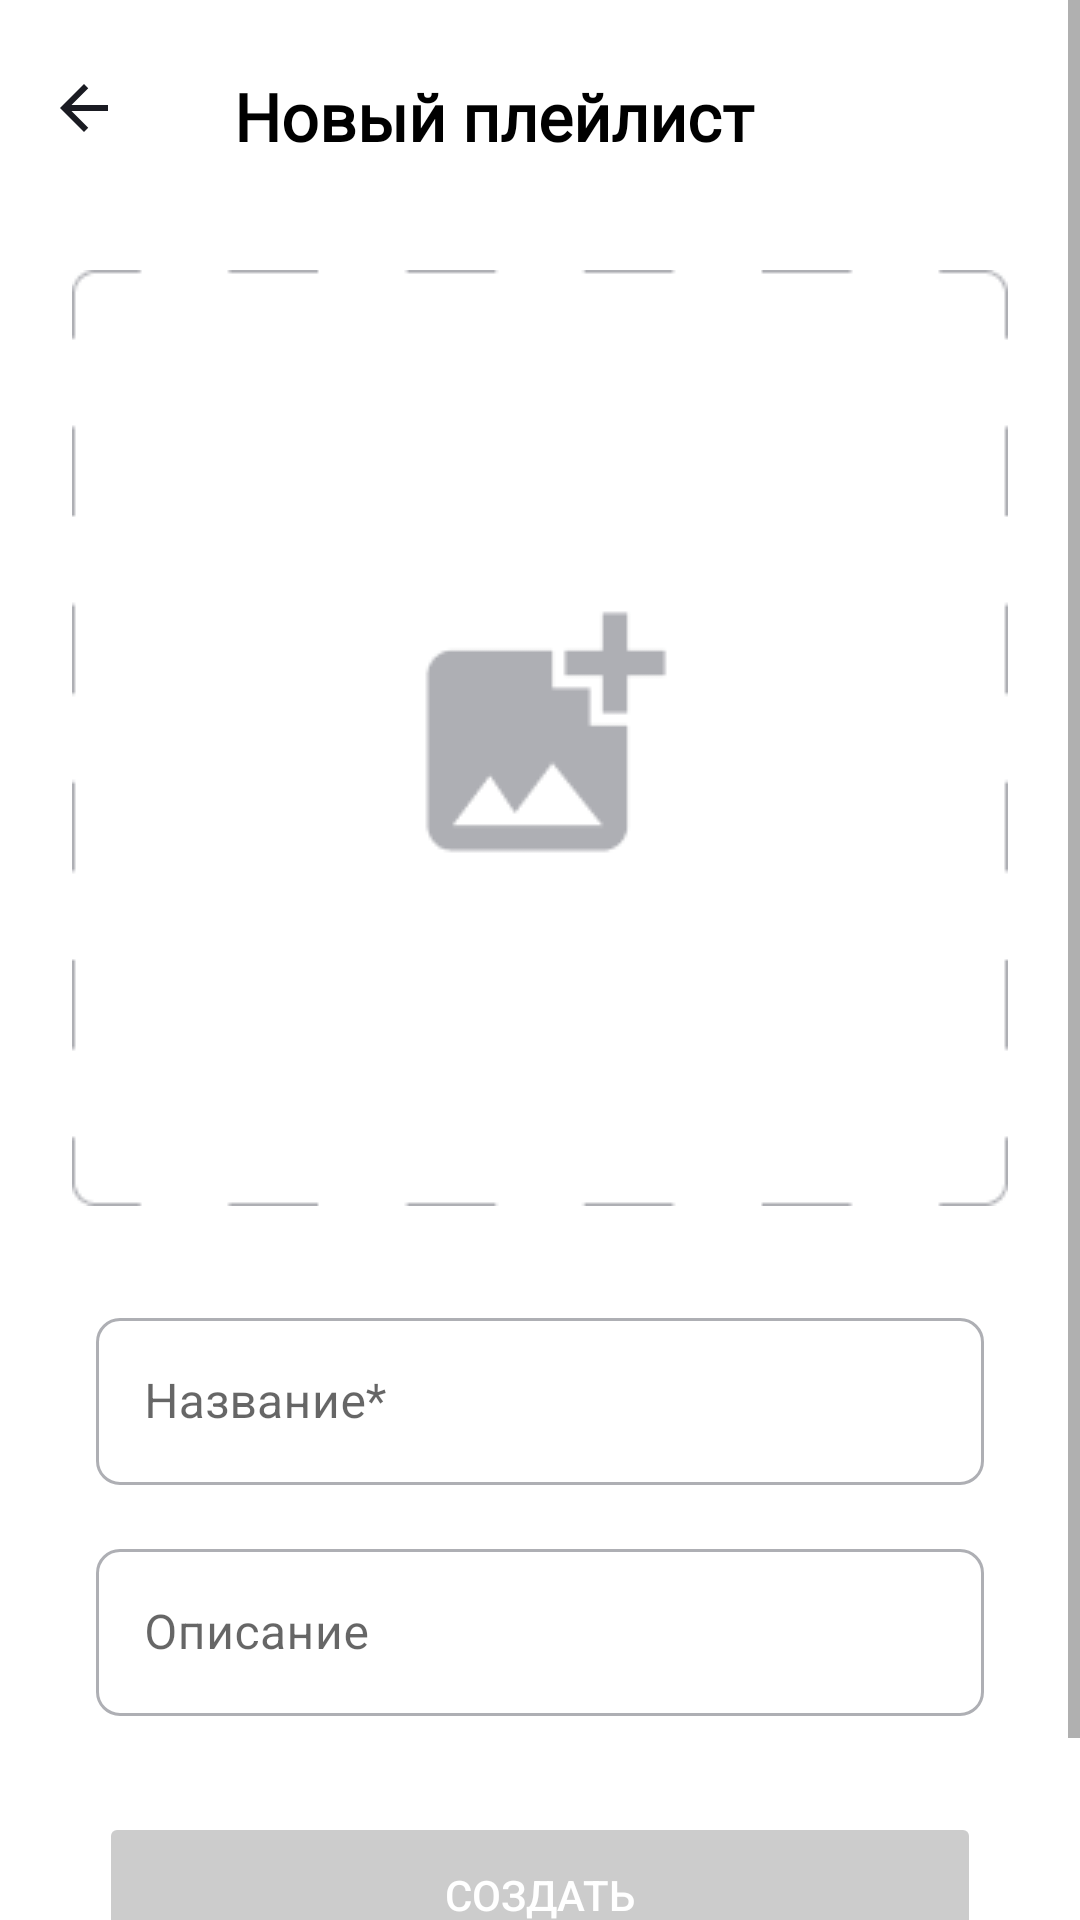

Icons on this 1080w x 1920h Android screen, each with the point to tap as point (x, y):
strelka: point (84, 108)
